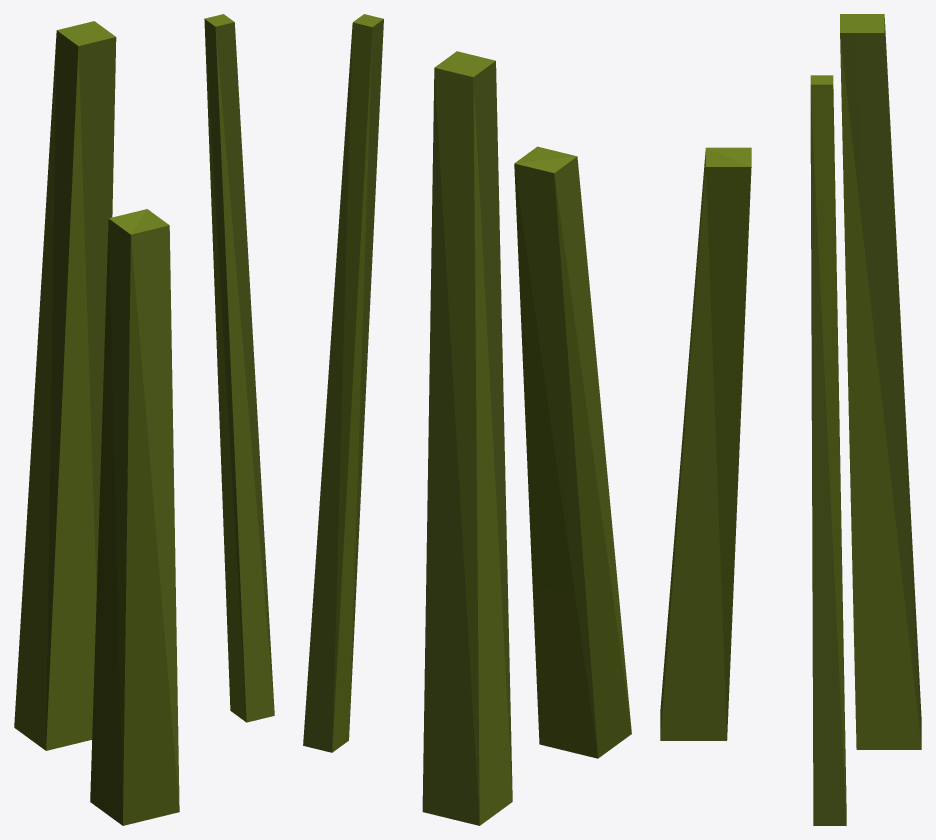
File: angular_grass_b.glb
The picture shows the model from 3 angles, left to right: view 1: azimuth 30°, elevation 25°; view 2: azimuth 150°, elevation 25°; view 3: azimuth 270°, elevation 25°; orthographic projection. The views are drawn at different scales.
Size of the model in its own units: 0.1516 by 0.45 by 0.1481.
